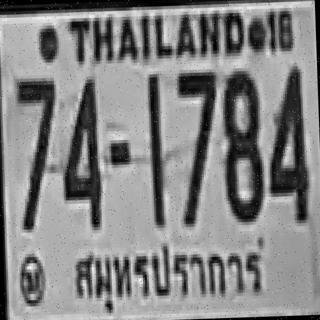N01: (145, 74, 164, 228)
N04: (264, 63, 308, 221), (58, 75, 102, 226)
N07: (14, 74, 59, 230), (174, 69, 219, 224), (174, 69, 217, 178)
N08: (220, 68, 264, 220)
P57: (62, 230, 270, 320)
